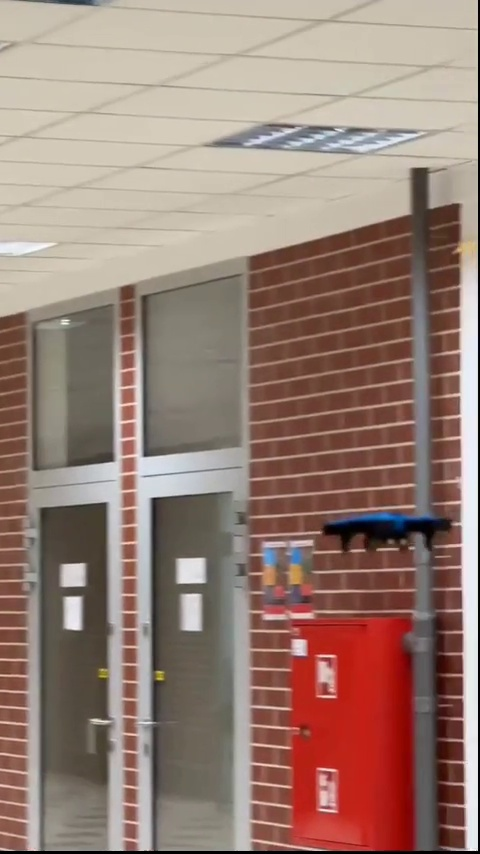drone: (325, 512, 455, 545)
